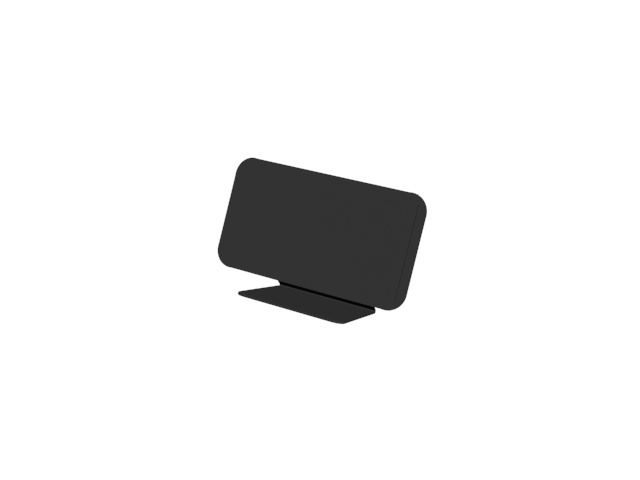monitor: (217, 153, 432, 328)
